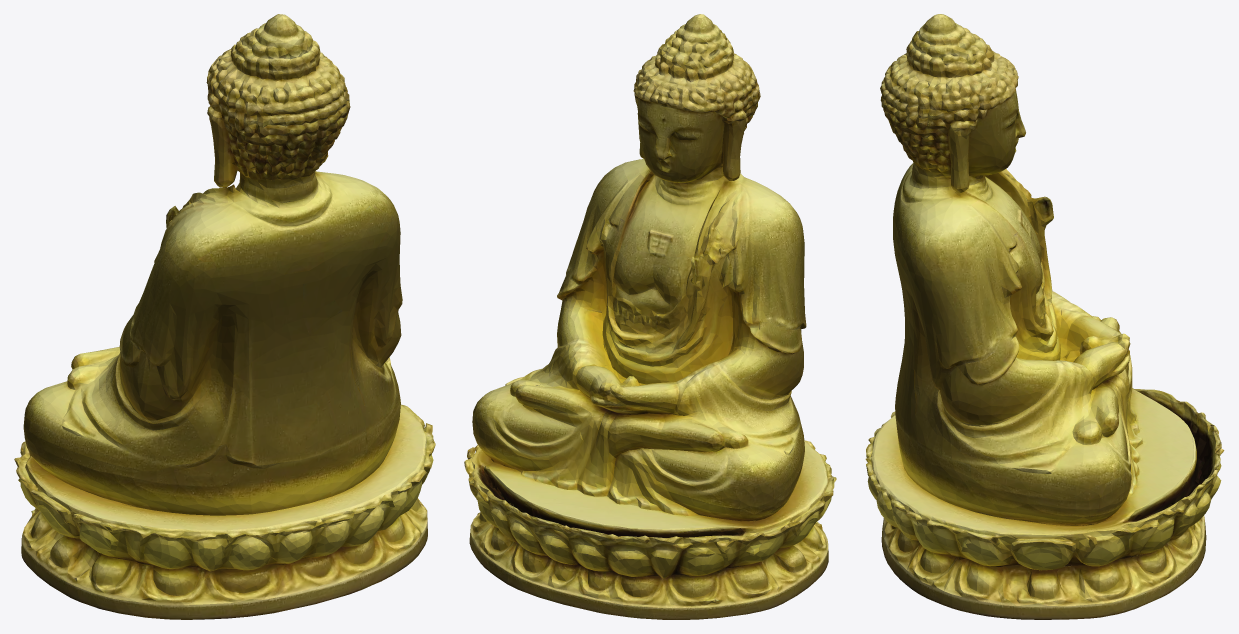
The model's file is east.glb.
3 views of the same model, side by side, from view 1: azimuth 30°, elevation 25°; view 2: azimuth 150°, elevation 25°; view 3: azimuth 270°, elevation 25° (orthographic). The views are drawn at different scales.
Visible parts, largest first — view 1: geometry_0; view 2: geometry_0; view 3: geometry_0.
Boxes of the visible parts, <box> form: geometry_0: <box>14,14,435,619</box>; geometry_0: <box>464,14,836,619</box>; geometry_0: <box>865,14,1224,619</box>.
Bounding box in the file's own units: 0.6794 × 1 × 0.6202.
1 material, 1 textured.
